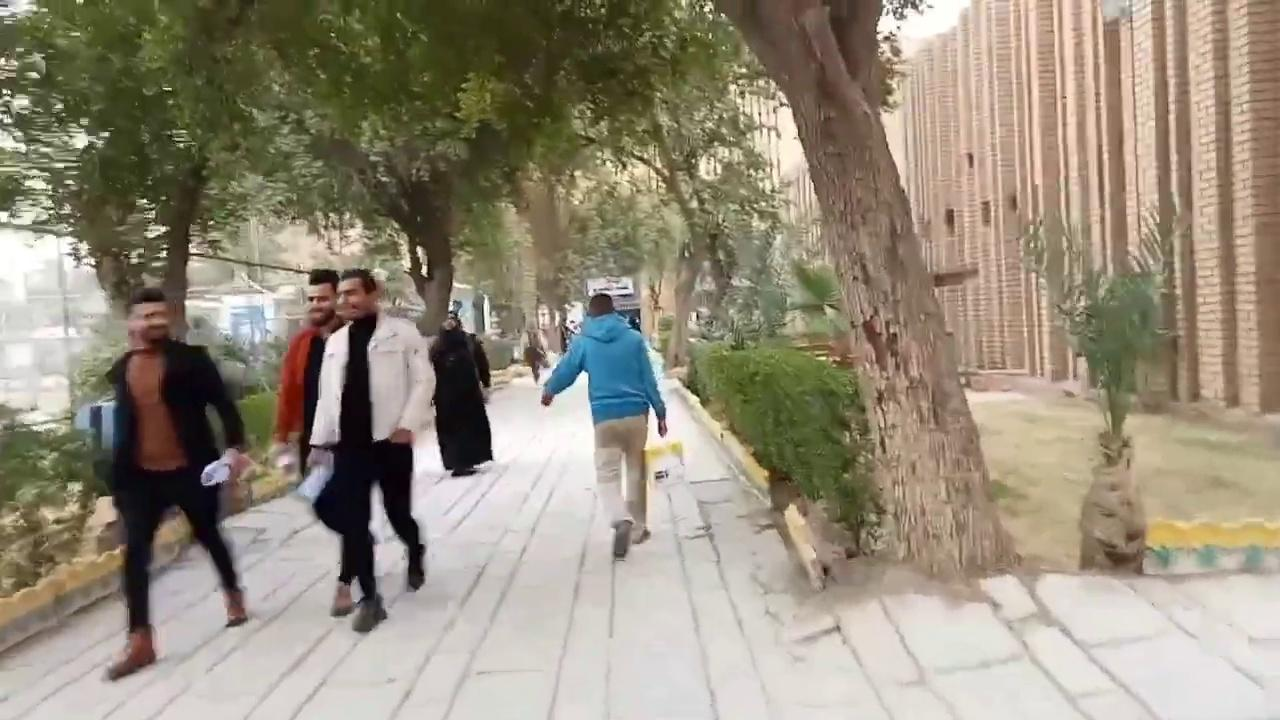car: (71, 306, 286, 492)
person: (101, 286, 249, 680), (305, 266, 436, 632), (268, 267, 383, 620), (540, 292, 668, 559), (428, 310, 493, 477), (524, 302, 567, 384)
tree: (0, 0, 1026, 586), (253, 0, 763, 361), (710, 0, 1021, 581), (1, 0, 292, 342), (1028, 200, 1208, 585), (586, 44, 788, 371)
